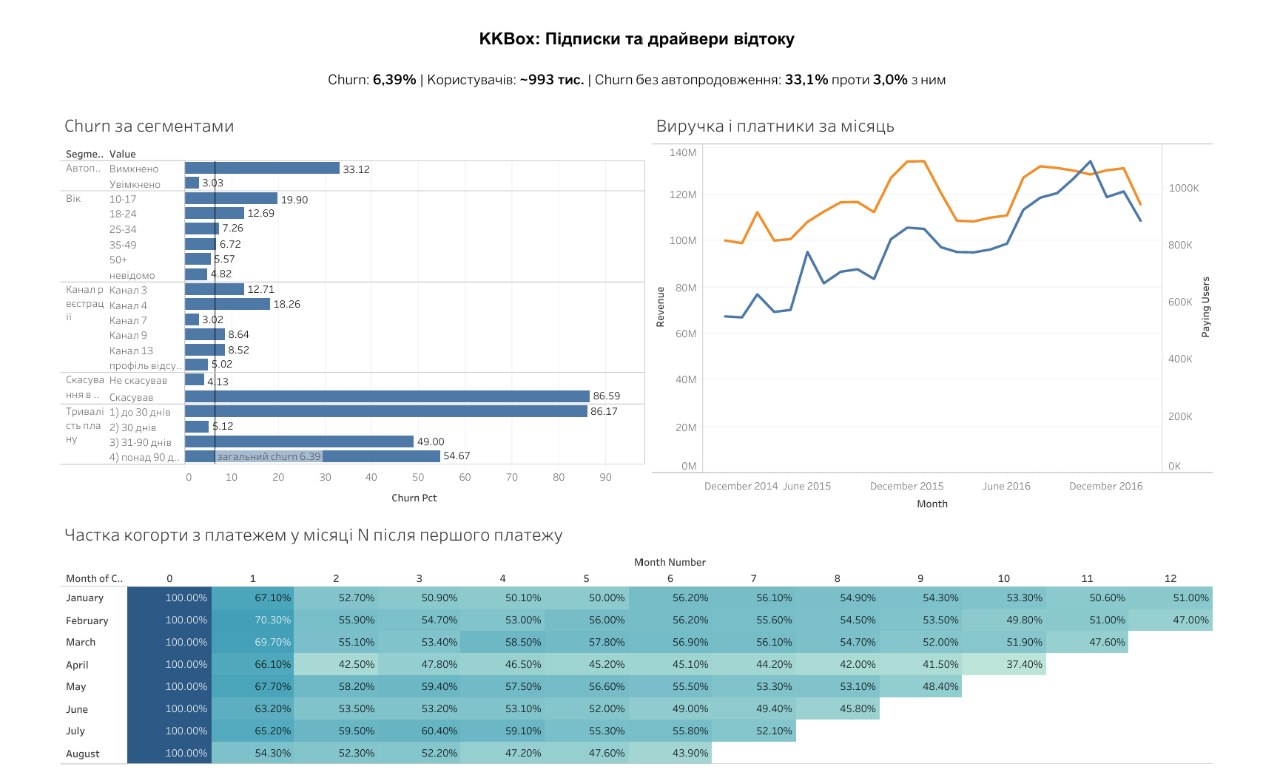

The dashboard page shown, as its layout file describes it:
{"tool":"tableau","page":{"name":"KKBox: підписки та драйвери відтоку","canvas":[1400,1100],"ordinal":0},"visuals":[{"type":"text","box":[8,8,1384,39.2]},{"type":"text","box":[8,47.2,1384,58.4]},{"type":"worksheet","title":"Churn за сегментами","mark":"Automatic","rows":["segment","value"],"cols":["churn_pct"],"box":[8,105.6,706,488.9]},{"type":"worksheet","title":"Виручка і платники за місяць","mark":"Automatic","rows":["revenue","paying_users"],"cols":["month"],"box":[714,105.6,678,488.9]},{"type":"worksheet","title":"Частка когорти з платежем у місяці N після першого платежу","mark":"Square","rows":["cohort_month"],"cols":["month_number"],"box":[8,594.5,1384,303.5]},{"type":"text","box":[8,898,1384,194]}]}

Visuals, with their boxes on the page's 1400x1100 design canvas (x1, y1, x2, y2). These are canvas units, not pixel positions in the 1280x775 screenshot, which may show the page scaled, cropped or inside an application window:
text: (left=8, top=8, right=1392, bottom=47)
text: (left=8, top=47, right=1392, bottom=106)
"Churn за сегментами" worksheet: (left=8, top=106, right=714, bottom=594)
"Виручка і платники за місяць" worksheet: (left=714, top=106, right=1392, bottom=594)
"Частка когорти з платежем у місяці N після першого платежу" worksheet (Square marks): (left=8, top=594, right=1392, bottom=898)
text: (left=8, top=898, right=1392, bottom=1092)
